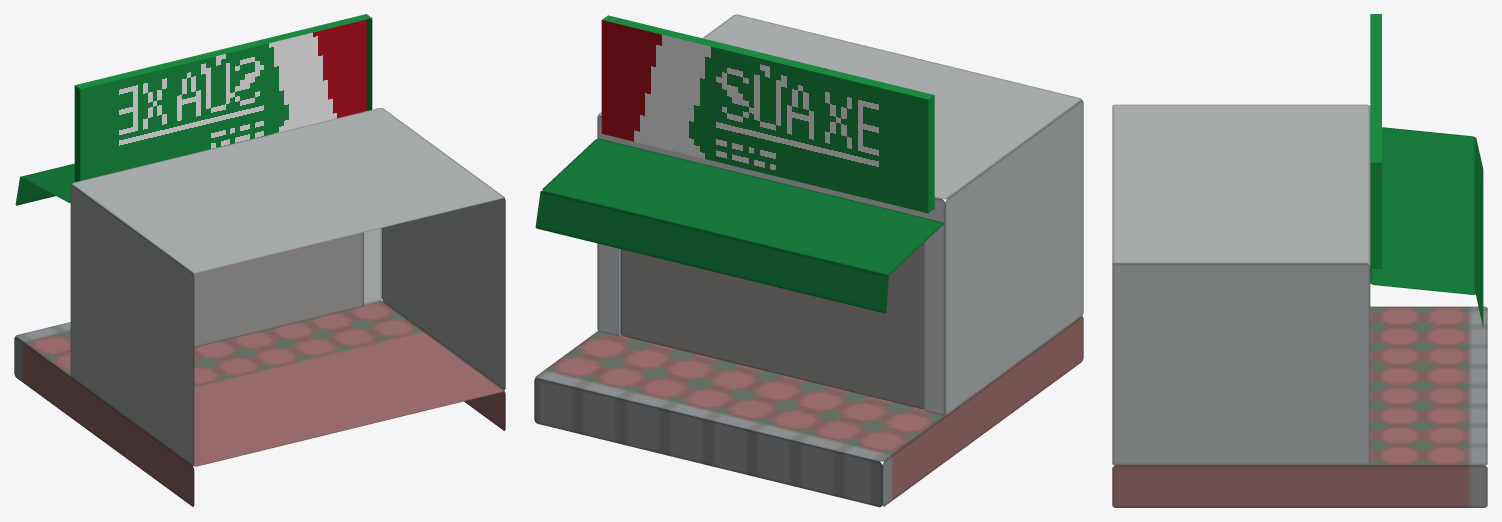
File: House 9.fbx
3 renders of one model, left to right at view 1: azimuth 30°, elevation 25°; view 2: azimuth 150°, elevation 25°; view 3: azimuth 270°, elevation 25°, orthographic. The views are drawn at different scales.
Parts seen in each view (by area): view 1: House, SideRoad, Banner, plane; view 2: House, SideRoad, Banner, plane; view 3: House, SideRoad, plane, Banner.
Part boxes in pixels (box(x1,y1,x2,y2)): House: box(70, 108, 505, 465); SideRoad: box(14, 300, 505, 506); Banner: box(74, 14, 372, 181); plane: box(15, 163, 74, 205); House: box(597, 14, 1083, 415); SideRoad: box(534, 316, 1083, 507); Banner: box(601, 15, 934, 213); plane: box(535, 138, 943, 313); House: box(1112, 104, 1370, 465); SideRoad: box(1112, 306, 1487, 507); plane: box(1370, 127, 1483, 327); Banner: box(1370, 14, 1381, 268).
Size of the model in its own units: 202 by 200 by 200.
3 materials, 3 textured.
